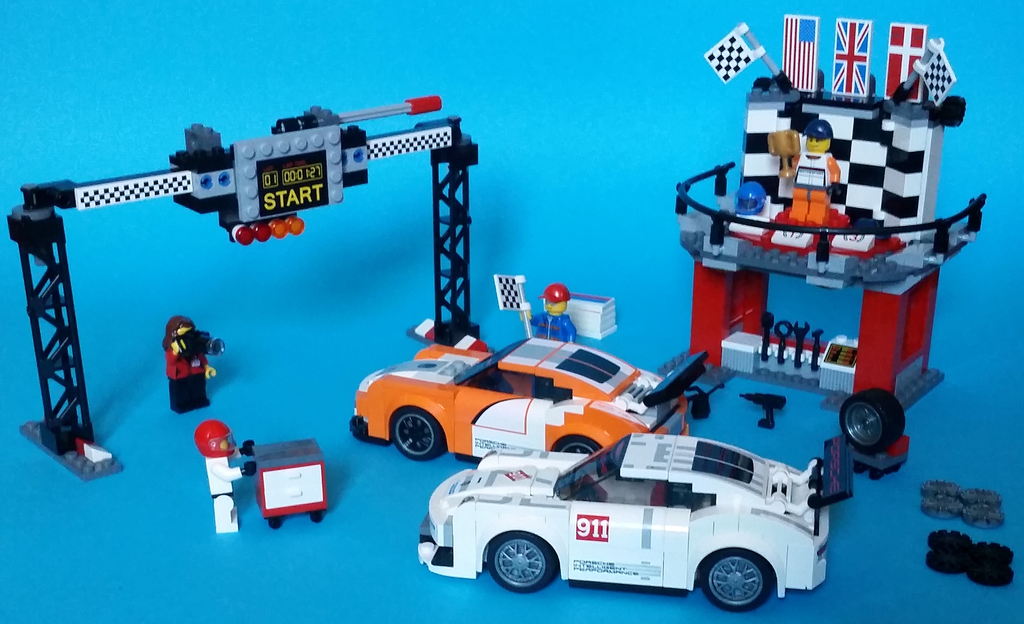Car: (408, 421, 856, 608), (350, 348, 708, 455)
